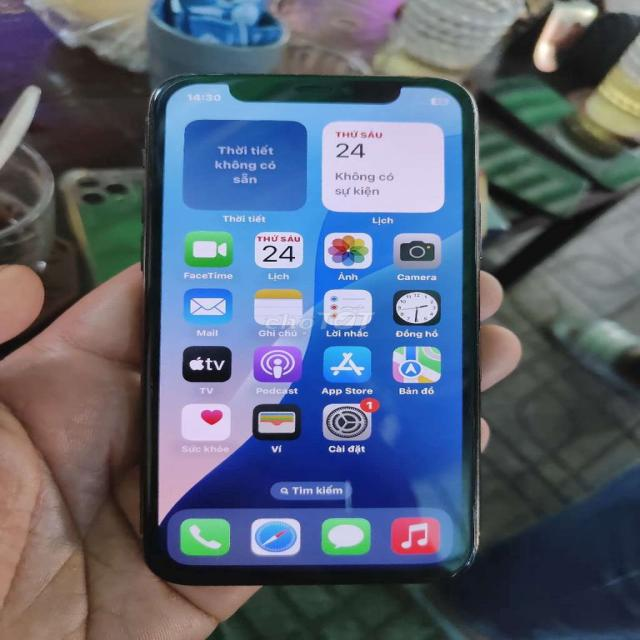gen_11: (142, 74, 478, 584)
